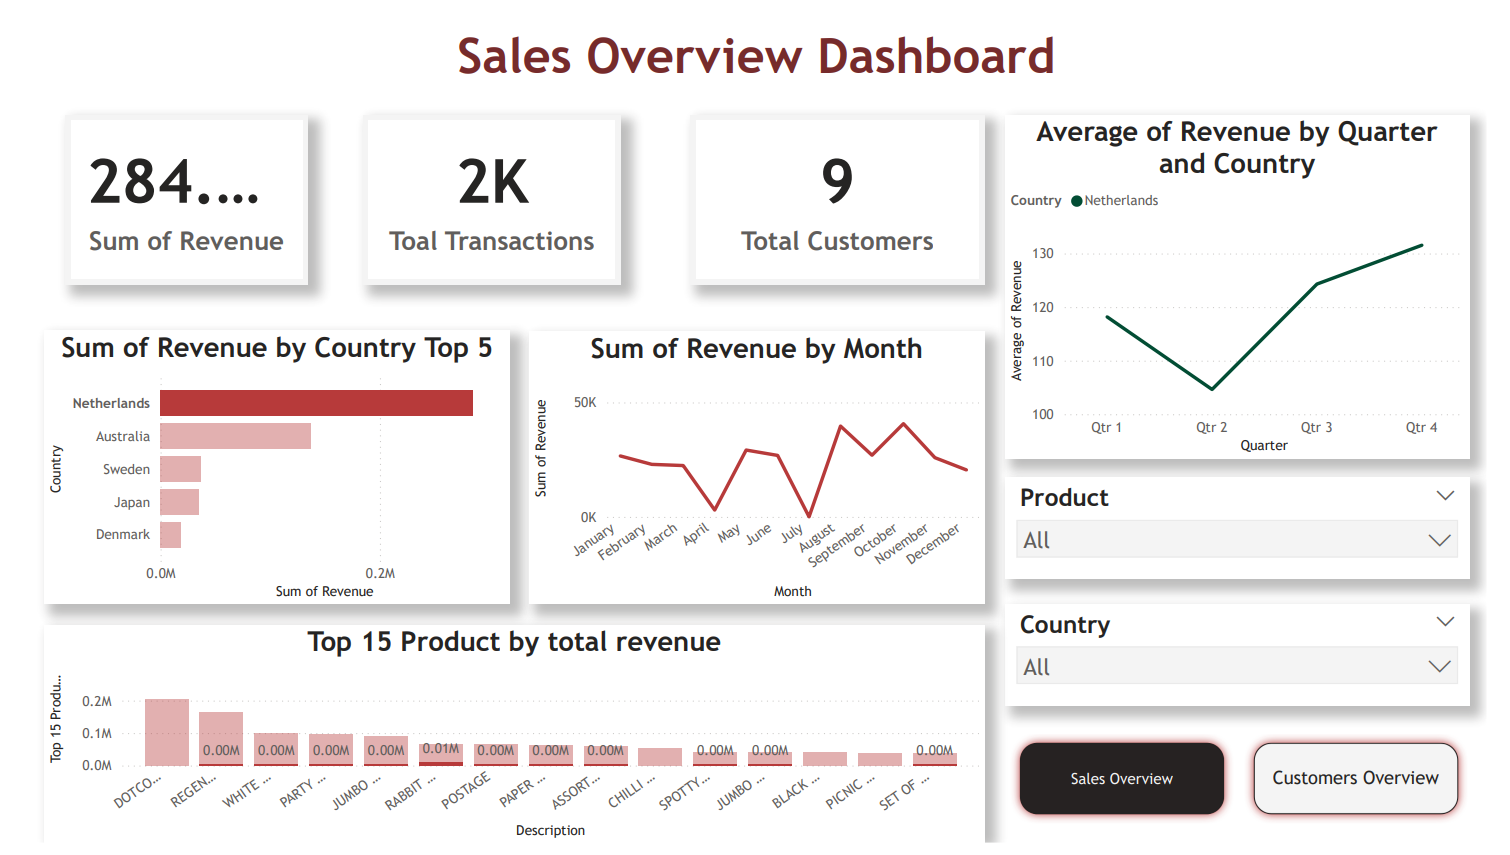

This screenshot's page, from the dashboard's own definition file:
{"tool":"powerbi","page":{"name":"Sales Overview","canvas":[1280,720],"ordinal":0},"visuals":[{"type":"textbox","box":[0,0,1279.7,65.9],"z":0},{"type":"cardVisual","fields":{"Data":["Sum(retail.Revenue)"]},"box":[33.8,81.9,213.6,149.5],"z":1000},{"type":"cardVisual","fields":{"Data":["CountNonNull(retail.InvoiceNo)"]},"box":[295.4,81.9,226,149.5],"z":2000},{"type":"cardVisual","fields":{"Data":["retail.# Customers"]},"box":[582,81.9,258.1,149.5],"z":3000},{"type":"barChart","title":"Sum of Revenue by Country  Top 5","fields":{"Category":["retail.Country"],"Y":["Sum(retail.Revenue)"]},"box":[16,270.5,407.6,240.3],"z":4000},{"type":"lineChart","fields":{"Category":["retail.InvoiceDate.Variation.Date Hierarchy.Month"],"Y":["Sum(retail.Revenue)"]},"box":[441.4,272.3,398.7,238.5],"z":5000},{"type":"slicer","fields":{"Values":["retail.Country"]},"box":[857.9,510.8,407.6,89],"z":6000},{"type":"lineChart","fields":{"Y":["Avg(retail.Revenue)"],"Series":["retail.Country"],"Category":["retail.InvoiceDate.Variation.Date Hierarchy.Quarter"]},"box":[857.9,81.9,407.6,300.8],"z":7000},{"type":"slicer","fields":{"Values":["retail.Description"]},"box":[857.9,400.5,407.6,89],"z":8000},{"type":"columnChart","title":"Top 15 Product by total revenue","fields":{"Y":["Sum(retail.Revenue)"],"Category":["retail.Description"]},"box":[16,528.6,824,192.2],"z":9000},{"type":"pageNavigator","box":[863.2,624.7,400.5,78.3],"z":10000}]}

Visuals, with their boxes in screenshot pixels (x1, y1, x2, y2), scaled from the page's 1280x720 canvas onto the 1510x855 screenshot:
textbox: x1=0, y1=0, x2=1509, y2=78
cardVisual - Sum(retail.Revenue): x1=40, y1=97, x2=292, y2=275
cardVisual - CountNonNull(retail.InvoiceNo): x1=348, y1=97, x2=615, y2=275
cardVisual - retail.# Customers: x1=687, y1=97, x2=991, y2=275
"Sum of Revenue by Country  Top 5" barChart: x1=19, y1=321, x2=500, y2=607
lineChart - retail.InvoiceDate.Variation.Date Hierarchy.Month x Sum(retail.Revenue): x1=521, y1=323, x2=991, y2=607
slicer - retail.Country: x1=1012, y1=607, x2=1493, y2=712
lineChart - Avg(retail.Revenue) x retail.Country: x1=1012, y1=97, x2=1493, y2=454
slicer - retail.Description: x1=1012, y1=476, x2=1493, y2=581
"Top 15 Product by total revenue" columnChart: x1=19, y1=628, x2=991, y2=854
pageNavigator: x1=1018, y1=742, x2=1491, y2=835
